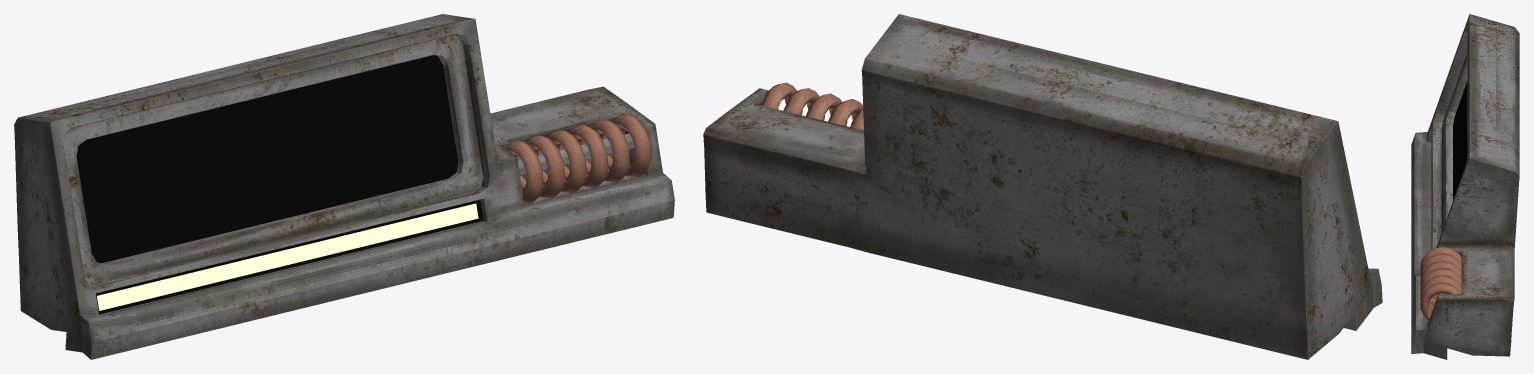
The model's file is mp_health counter vertical with timeout indicator2.glb.
3 renders of one model, left to right at view 1: azimuth 30°, elevation 25°; view 2: azimuth 150°, elevation 25°; view 3: azimuth 270°, elevation 25°, orthographic. The views are drawn at different scales.
Parts seen in each view (by area): view 1: health counter vertical with timeout bar, health counter vertical coil, timeout slider_health counter vertical, health counter vertical_004; view 2: health counter vertical with timeout bar, health counter vertical coil; view 3: health counter vertical with timeout bar, health counter vertical coil.
Part boxes in pixels (x1,y1,x2,y2): health counter vertical with timeout bar: (14,14,674,359); health counter vertical coil: (505,114,651,203); timeout slider_health counter vertical: (97,203,478,310); health counter vertical_004: (517,133,634,176); health counter vertical with timeout bar: (703,14,1382,359); health counter vertical coil: (761,82,863,130); health counter vertical with timeout bar: (1411,14,1519,359); health counter vertical coil: (1420,247,1461,320).
Size of the model in its own units: 4.26 by 1.5 by 0.9878.
Materials: 4 (2 with a texture image).
